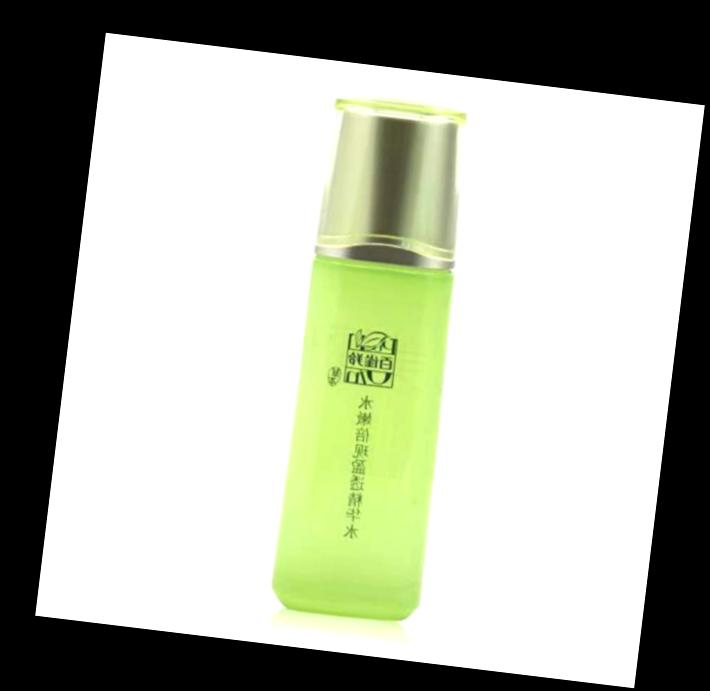cosmetic: (267, 91, 473, 611)
